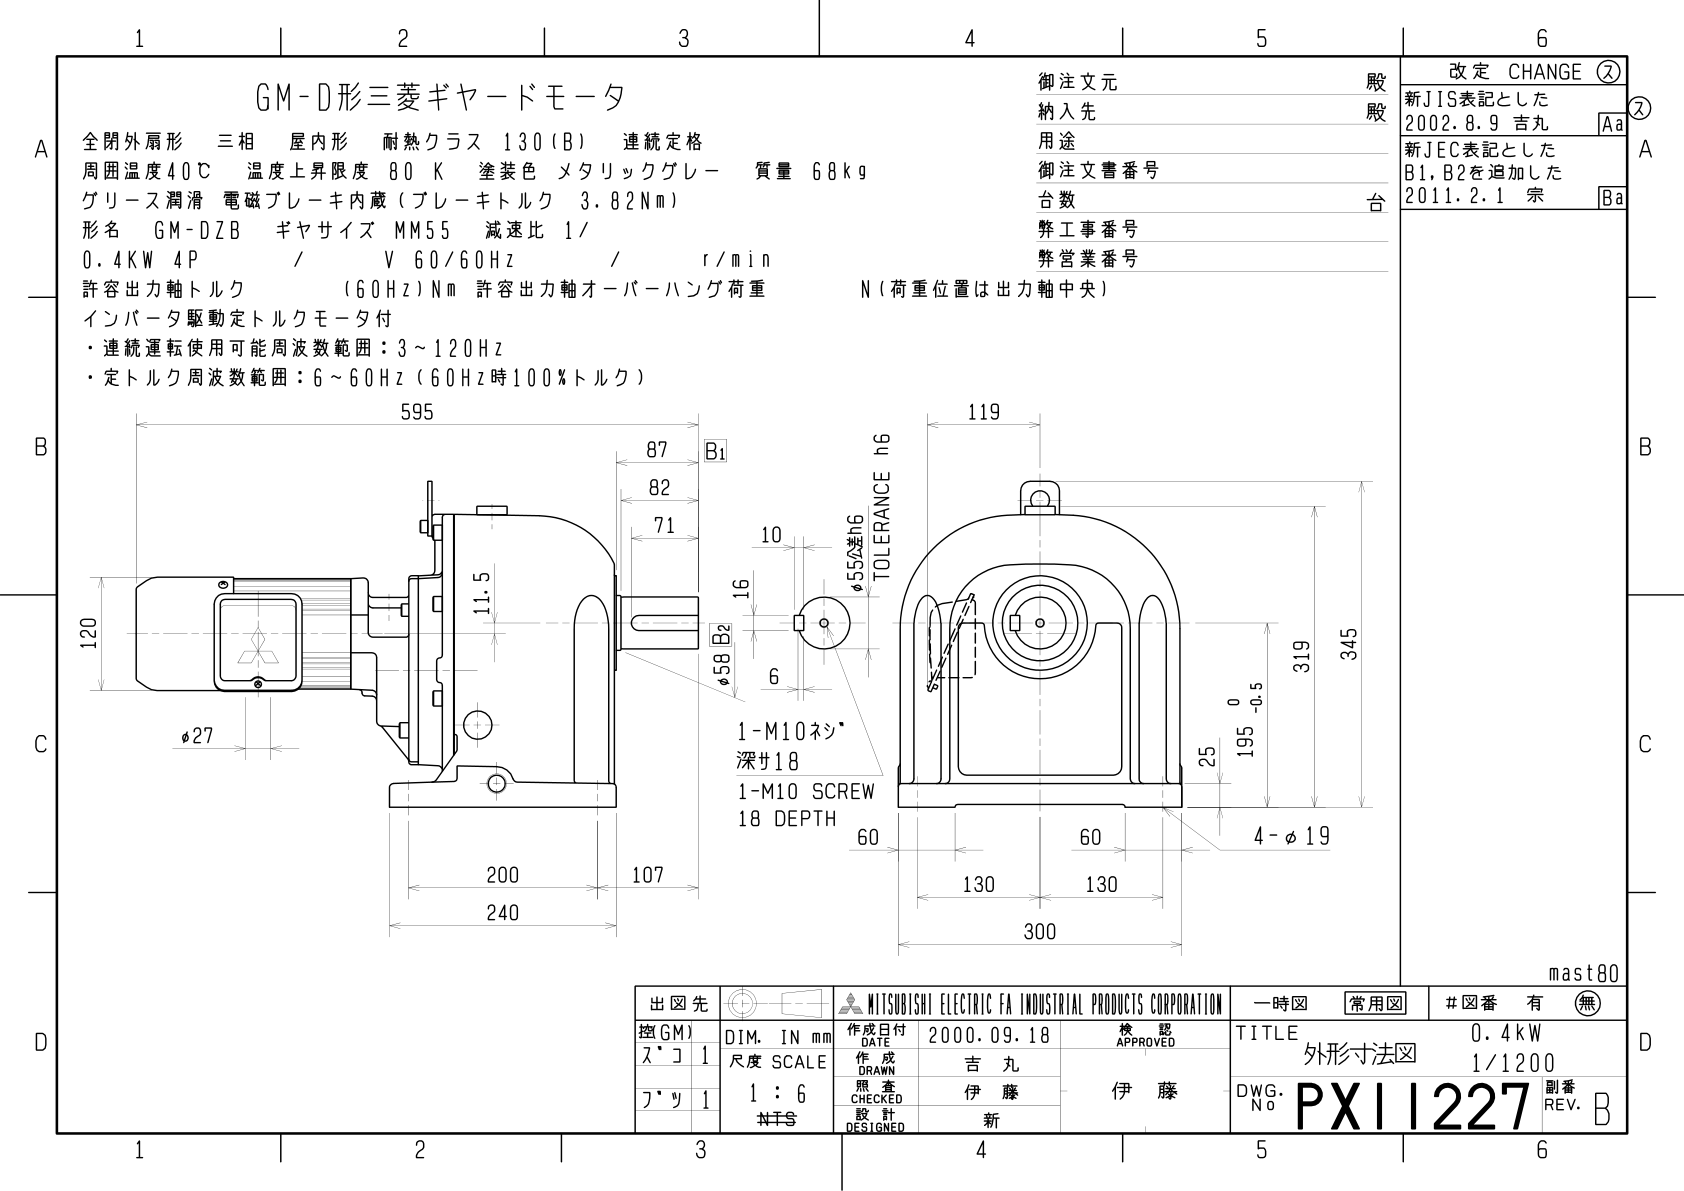GM_D_インバータ屋内_三相_脚: (64, 392, 1386, 969)
